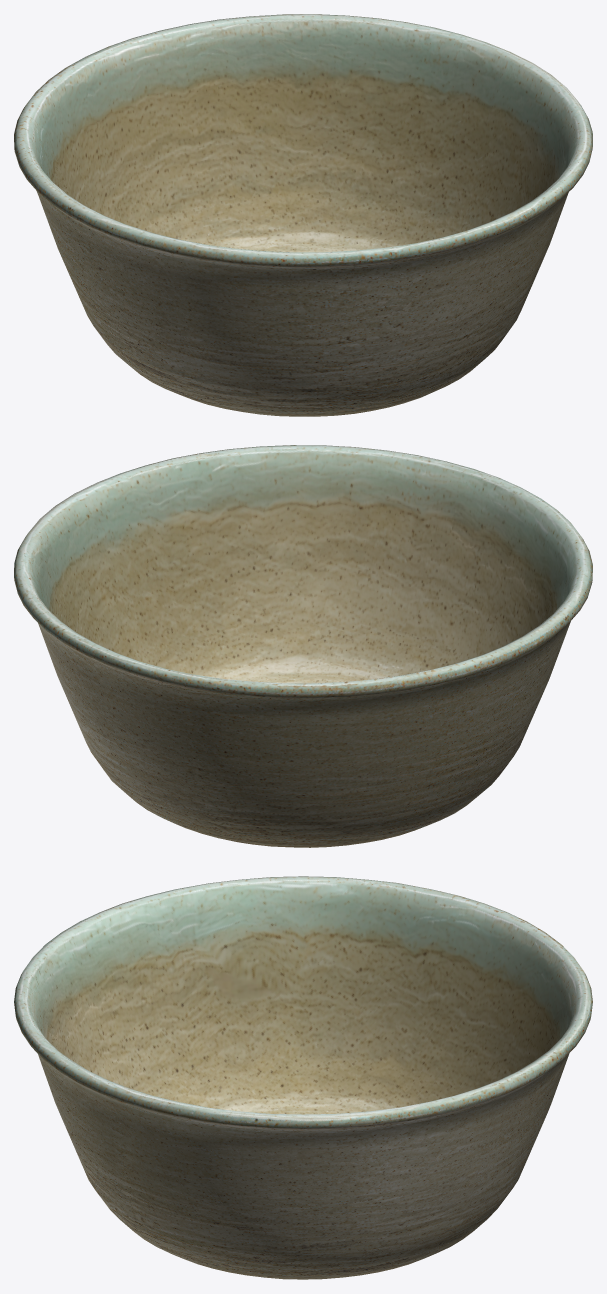
File: ceramic+bowl+3d+model.fbx
3 renders of one model, top to bottom at view 1: azimuth 30°, elevation 25°; view 2: azimuth 150°, elevation 25°; view 3: azimuth 270°, elevation 25°, orthographic.
Parts seen in each view (by area): view 1: tripo_node_c6e1438d-e62d-4397-9b0d-2e9e2b4ddd23; view 2: tripo_node_c6e1438d-e62d-4397-9b0d-2e9e2b4ddd23; view 3: tripo_node_c6e1438d-e62d-4397-9b0d-2e9e2b4ddd23.
Boxes of the visible parts, x1,y1,x2,y2 form: tripo_node_c6e1438d-e62d-4397-9b0d-2e9e2b4ddd23: (14,14,592,416); tripo_node_c6e1438d-e62d-4397-9b0d-2e9e2b4ddd23: (14,445,592,847); tripo_node_c6e1438d-e62d-4397-9b0d-2e9e2b4ddd23: (14,876,592,1279).
Size of the model in its own units: 0.9995 by 0.4067 by 0.9995.
Materials: 1 (1 with a texture image).
